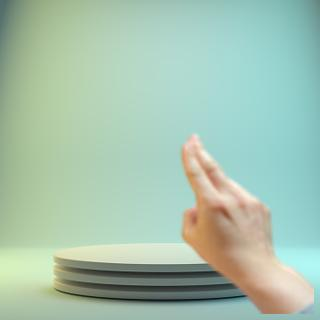DHAVE: (174, 130, 279, 270)
